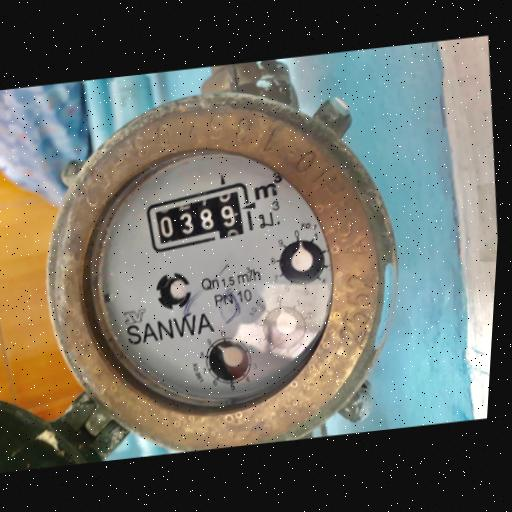0: (153, 206, 181, 243)
3: (170, 201, 201, 240)
8: (191, 197, 221, 235)
9: (209, 190, 248, 239)
border_water_meter_number: (141, 180, 259, 254)
